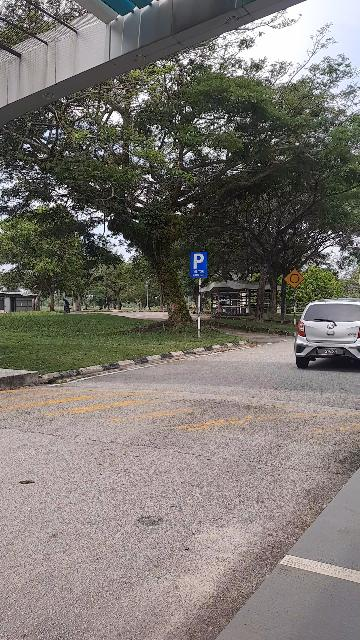License_Plate: (317, 347, 348, 357)
car: (296, 297, 360, 370)
